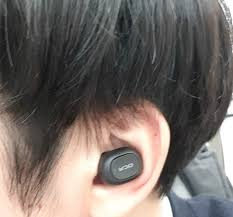earphone: (88, 98, 171, 217)
